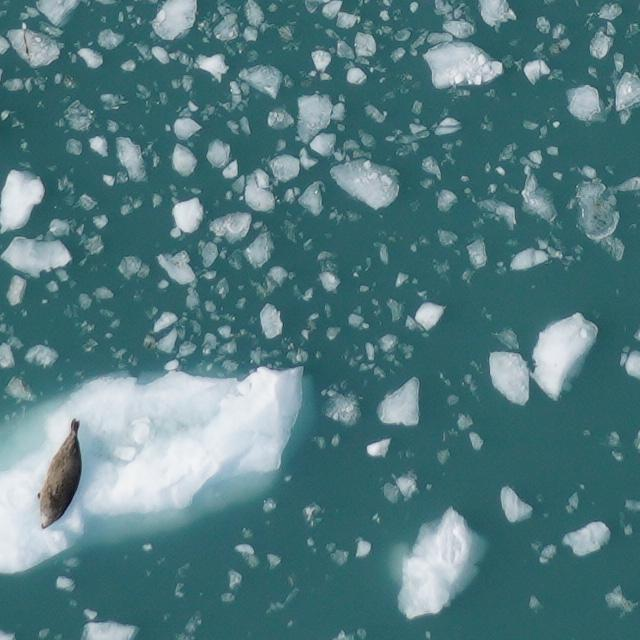seal: (35, 419, 83, 531)
